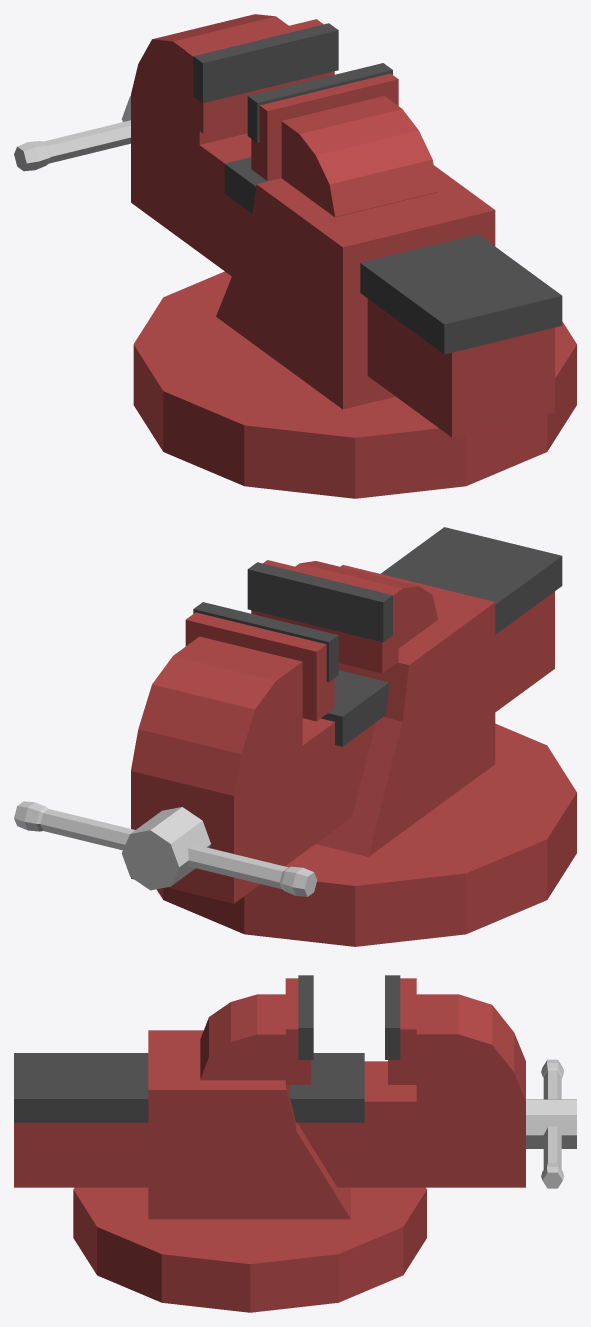
File: Vice.fbx
3 renders of one model, top to bottom at view 1: azimuth 30°, elevation 25°; view 2: azimuth 150°, elevation 25°; view 3: azimuth 270°, elevation 25°, orthographic. The views are drawn at different scales.
Visible parts, largest first — view 1: Cube; view 2: Cube; view 3: Cube.
Part boxes in pixels (box(x1,y1,x2,y2)): Cube: box(14, 14, 576, 498); Cube: box(14, 527, 576, 946); Cube: box(14, 975, 576, 1312).
Size of the model in its own units: 53.57 by 39.54 by 85.3.
